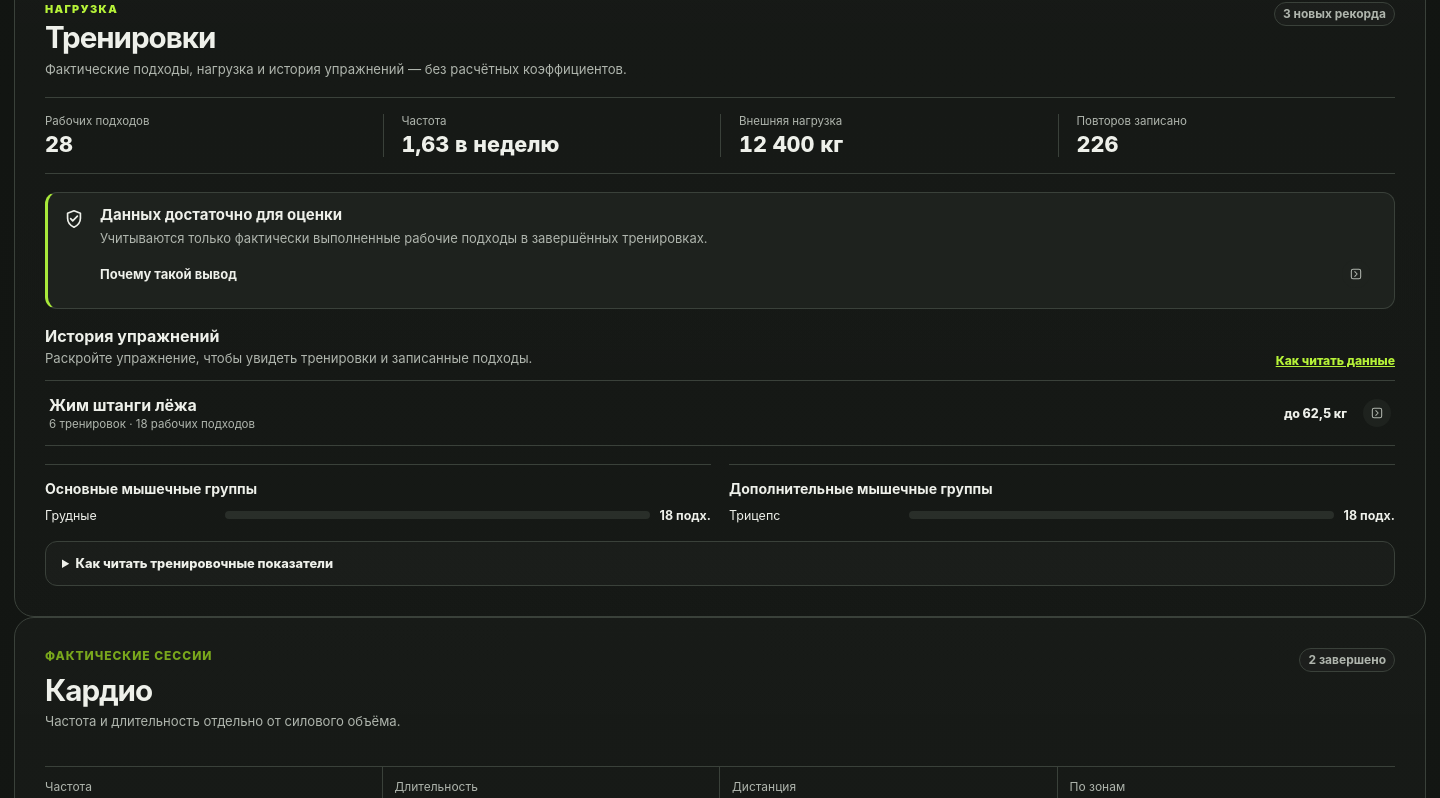
Test case: ProgressExperience › shows backend summaries, factual body points and workout detail
(page scrolled)
expect the heading "Тренировки" is shown: met, box x1=45 y1=19 x2=215 y2=55
Step 1. Click the text "Жим штанги лёжа" → [123, 405], box x1=49 y1=395 x2=197 y2=415
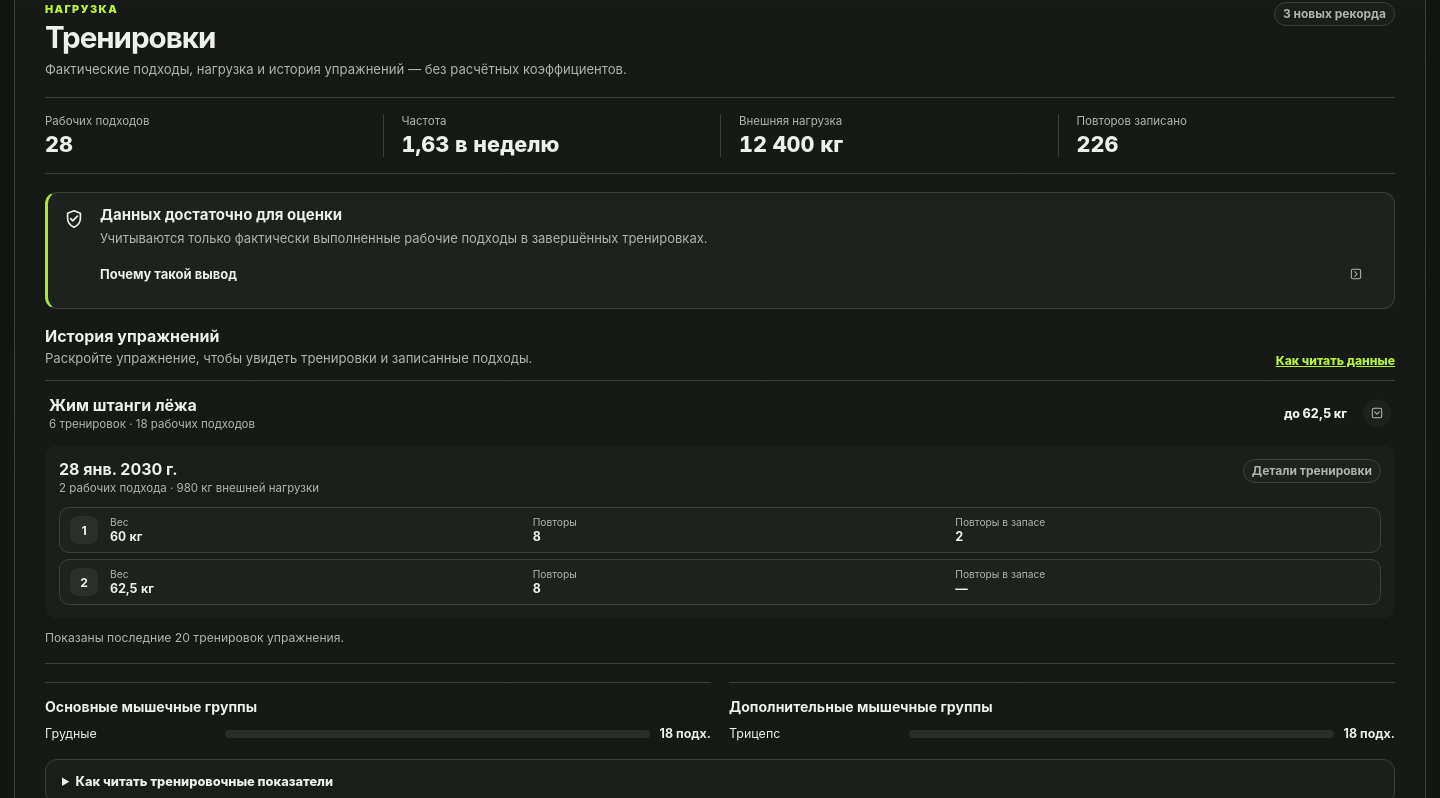
expect the text "Детали тренировки" is shown: met, box x1=1243 y1=459 x2=1381 y2=483
expect the text "Показаны последние 20 тренировок упражнения." is shown: met, box x1=45 y1=630 x2=344 y2=645
